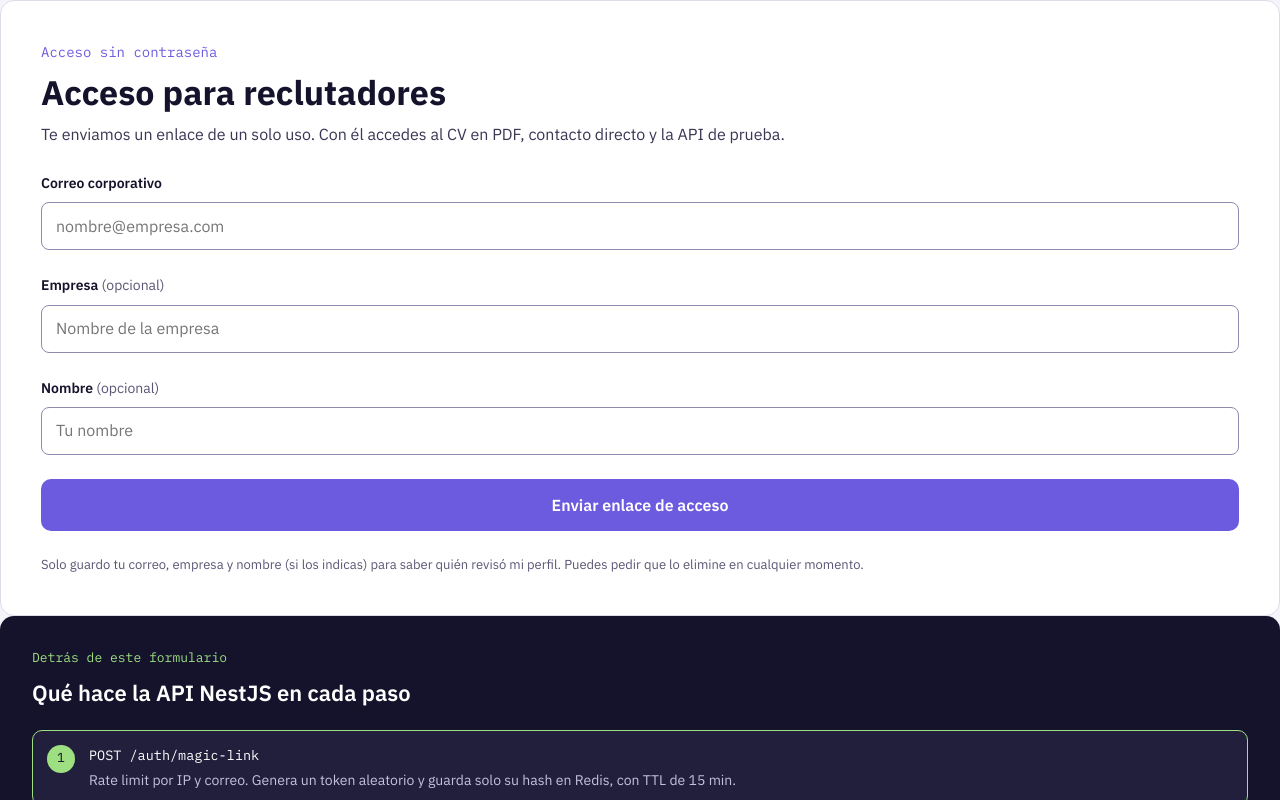
Scenario: LoginContainer › sends the request through the gateway and shows the sent state
Type "ana@empresa.com" into the field labelled "Correo corporativo" at coordinates (640, 226), box [41,202,1239,250]
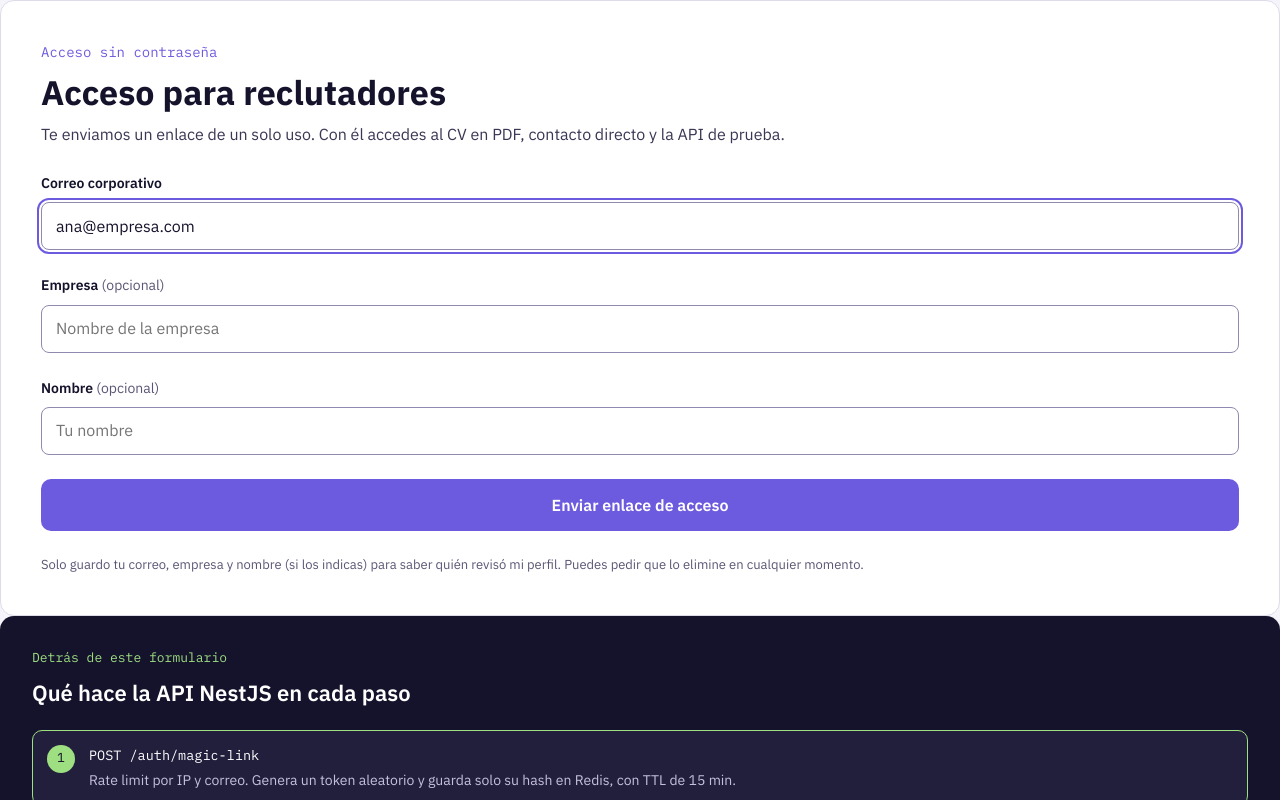
Click the button "Enviar enlace de acceso" at coordinates (640, 505), box [41,479,1239,531]
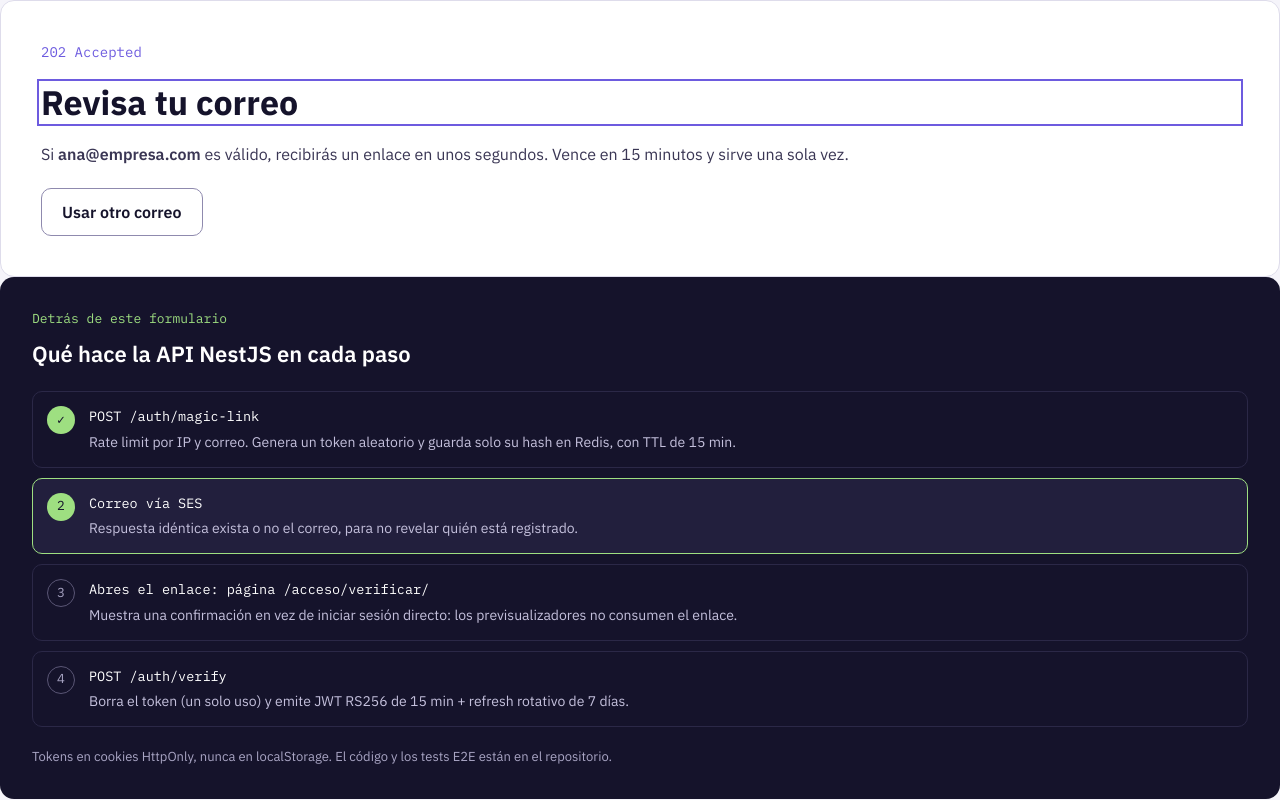
Check: the heading "Revisa tu correo" is shown, box [41,80,298,124]
Check: the label labelled "Correo corporativo" is gone
